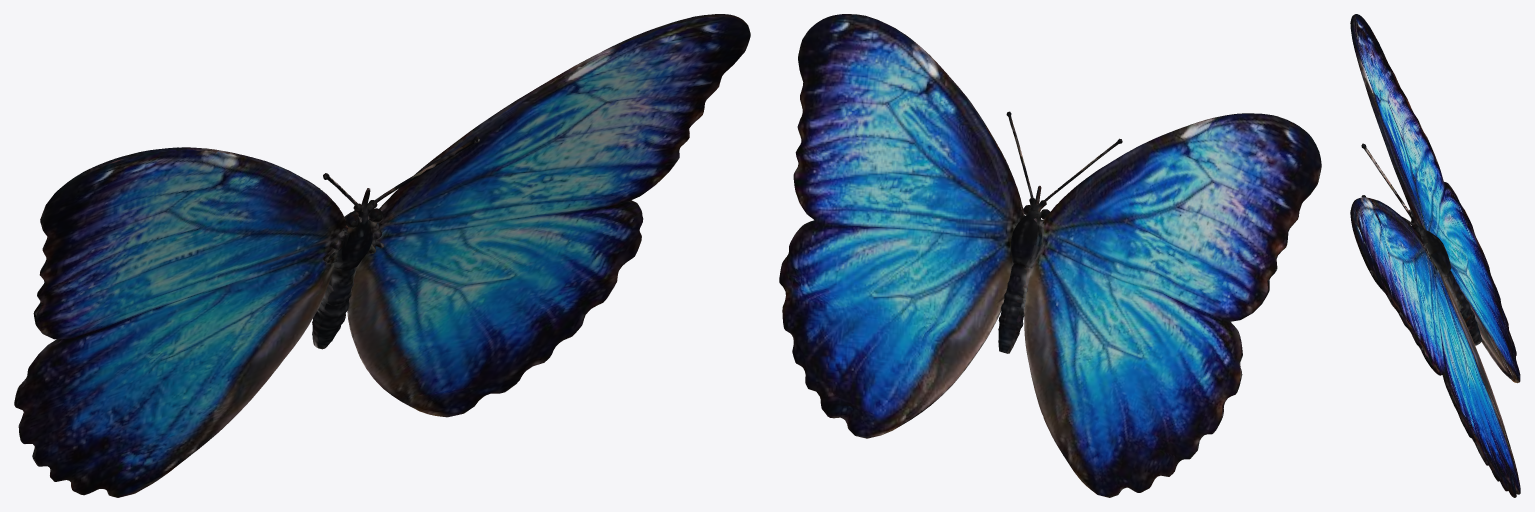
The model's file is morpho.glb.
The picture shows the model from 3 angles, left to right: view 1: azimuth 30°, elevation 25°; view 2: azimuth 150°, elevation 25°; view 3: azimuth 270°, elevation 25°; orthographic projection. The views are drawn at different scales.
Visible parts, largest first — view 1: morpho; view 2: morpho; view 3: morpho.
Boxes of the visible parts, left/top/right/bottom form: morpho: left=14, top=14, right=750, bottom=497; morpho: left=779, top=14, right=1321, bottom=497; morpho: left=1350, top=14, right=1520, bottom=497.
Size of the model in its own units: 1 by 0.6187 by 0.2994.
1 material, 1 textured.
